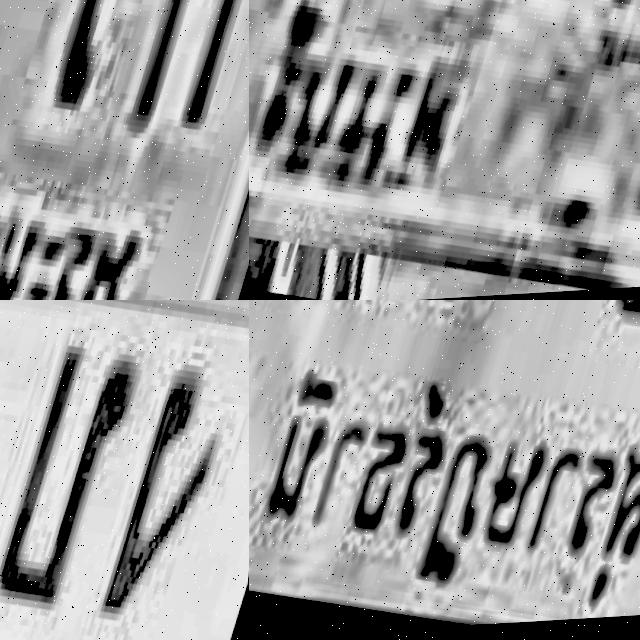license-plate: (249, 300, 640, 640), (249, 0, 640, 300), (0, 300, 249, 640), (0, 0, 249, 300)
